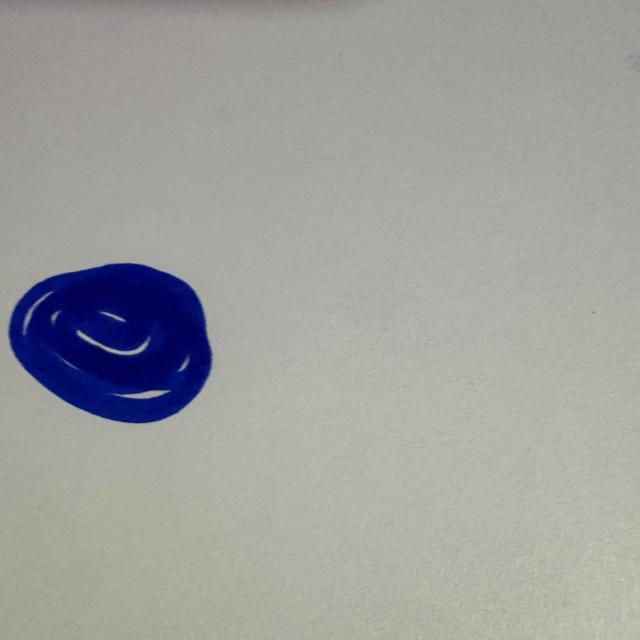Circle: (8, 260, 218, 430)
